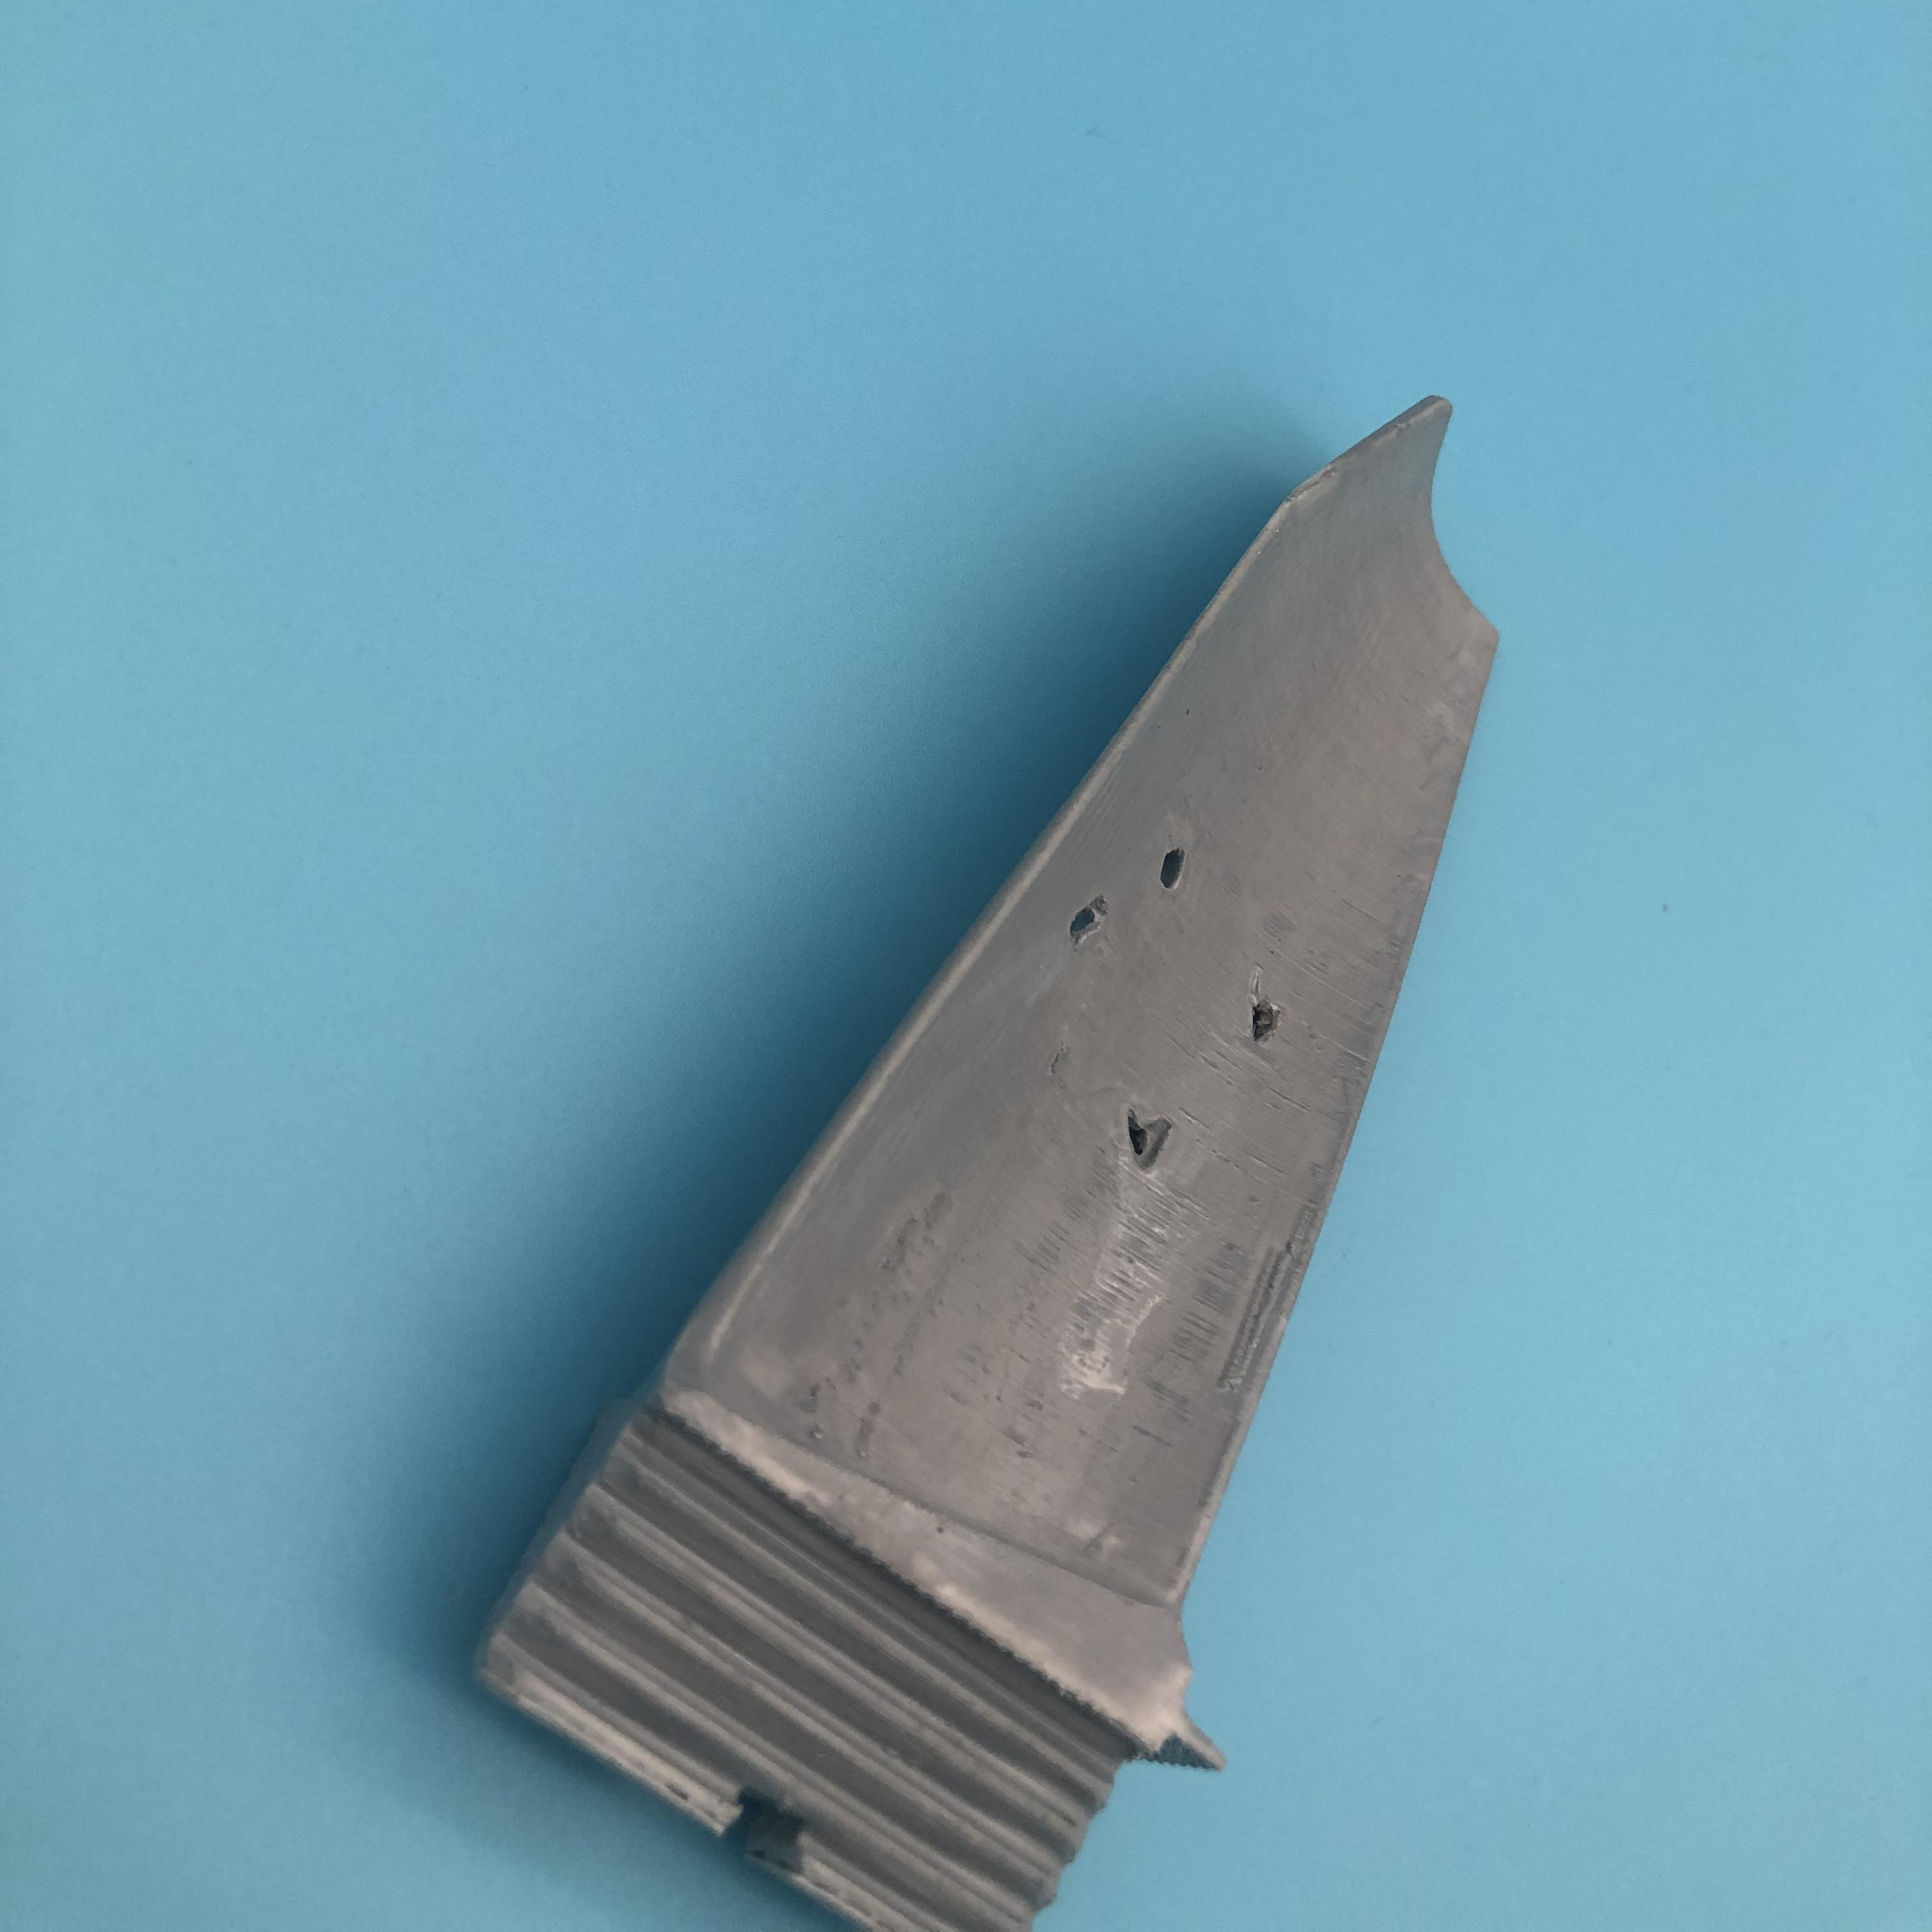breakdown: (1076, 855, 1279, 1171)
